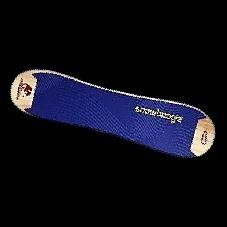Snowboard: (9, 68, 215, 158)
